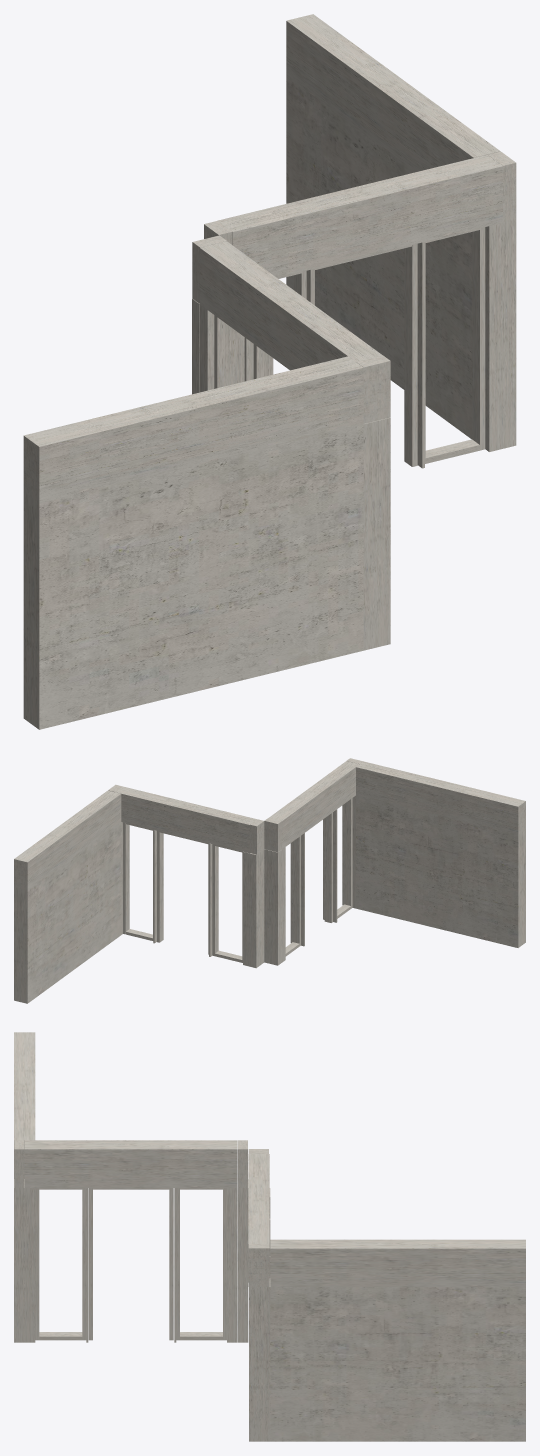
File: InnerWalls7.fbx
3 views of the same model, one above another, from view 1: azimuth 30°, elevation 25°; view 2: azimuth 150°, elevation 25°; view 3: azimuth 270°, elevation 25° (orthographic). The views are drawn at different scales.
Parts seen in each view (by area): view 1: walls, top; view 2: walls, top; view 3: walls, top.
Part boxes in pixels (bbox=[...]): walls: bbox=[23, 77, 516, 729]; top: bbox=[23, 14, 516, 503]; walls: bbox=[14, 795, 525, 1003]; top: bbox=[14, 758, 525, 890]; walls: bbox=[14, 1179, 525, 1441]; top: bbox=[14, 1032, 525, 1286].
Bounding box in the file's own units: 24 × 10.01 × 24.02.
